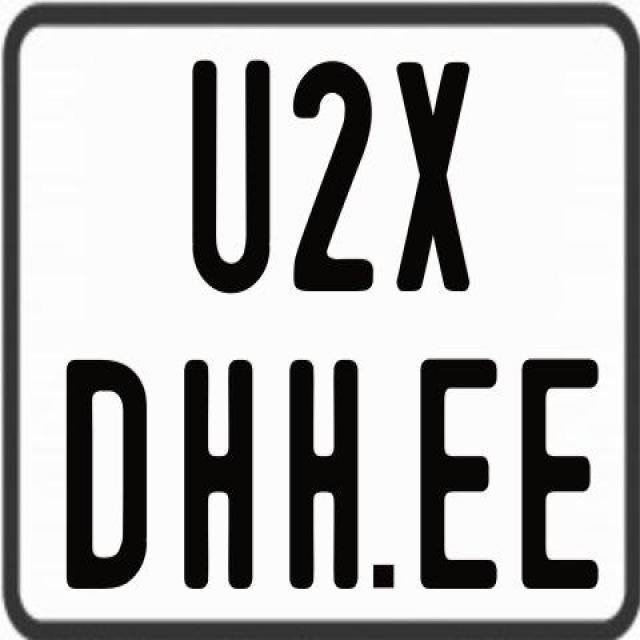2: (294, 58, 374, 292)
D: (62, 361, 144, 594)
E: (417, 353, 503, 584), (521, 358, 600, 597)
H: (180, 356, 250, 594), (287, 361, 357, 594)
U: (190, 59, 272, 299)
X: (394, 61, 466, 293)
